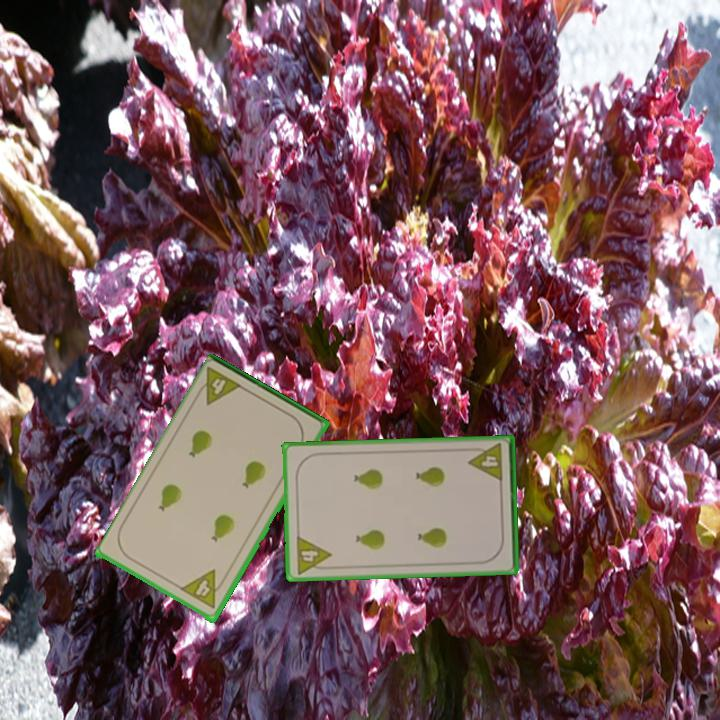4p: (191, 364, 246, 409), (178, 567, 229, 612), (292, 532, 334, 577), (465, 440, 505, 485)
